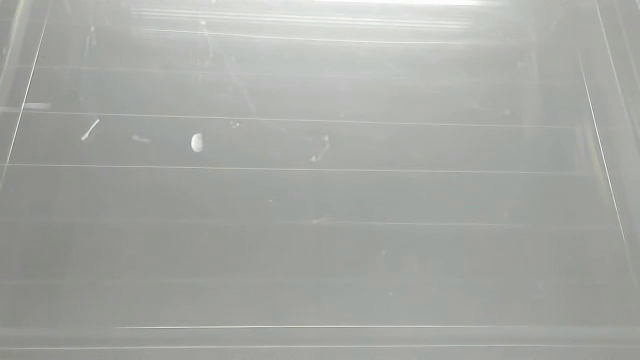alpha: (17, 99, 57, 116), (80, 118, 103, 142), (189, 131, 207, 155), (130, 131, 155, 147)
